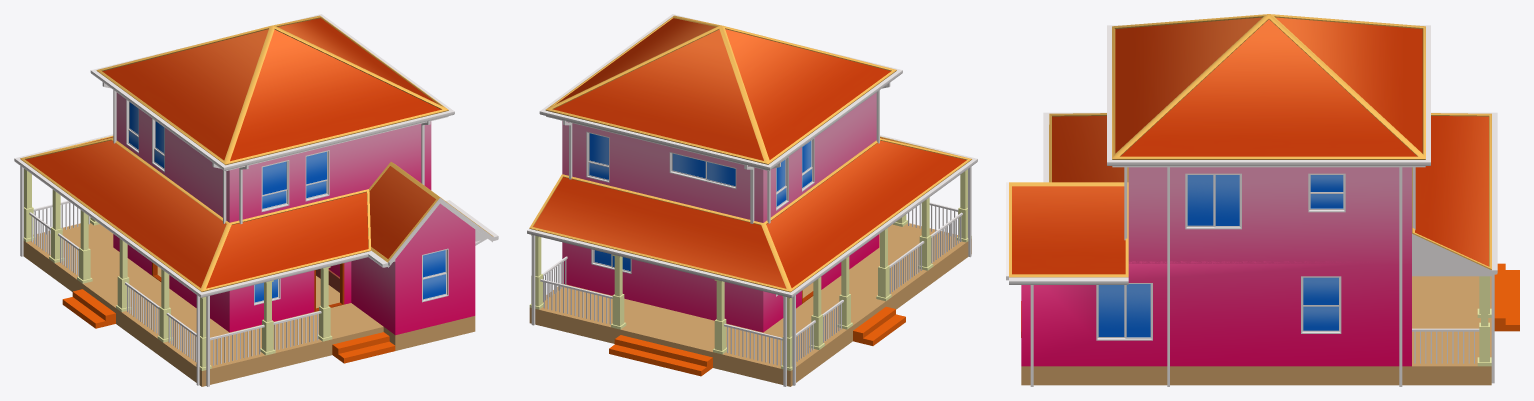
The model's file is House2.fbx.
3 renders of one model, left to right at view 1: azimuth 30°, elevation 25°; view 2: azimuth 150°, elevation 25°; view 3: azimuth 270°, elevation 25°, orthographic. The views are drawn at different scales.
Visible parts, largest first — view 1: House2; view 2: House2; view 3: House2.
Boxes of the visible parts, x1,y1,x2,y2 form: House2: [14, 14, 498, 386]; House2: [527, 14, 977, 386]; House2: [1006, 14, 1519, 386].
Bounding box in the file's own units: 1705 × 1390 × 2077.
